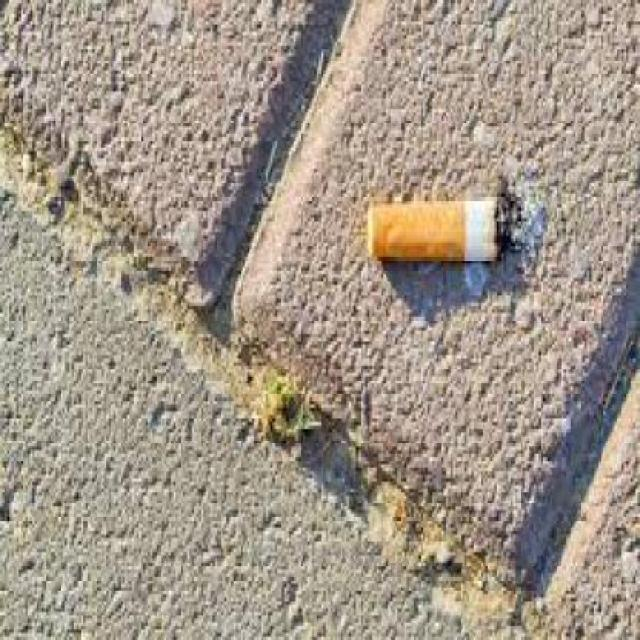cigarette: (349, 187, 536, 296)
